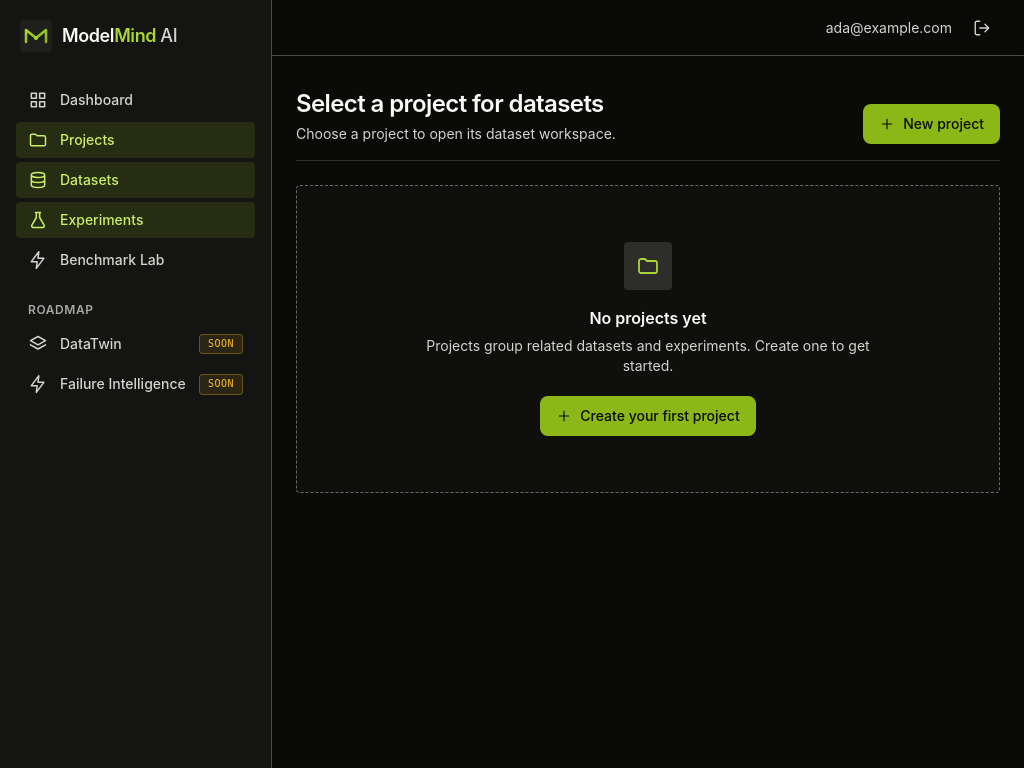
Test case: Projects page › creates a project through the API and shows it with a success message
The image size is (1024, 768).
Step 1. Click the button "Create your first project" → (648, 416), box [540,396,756,436]
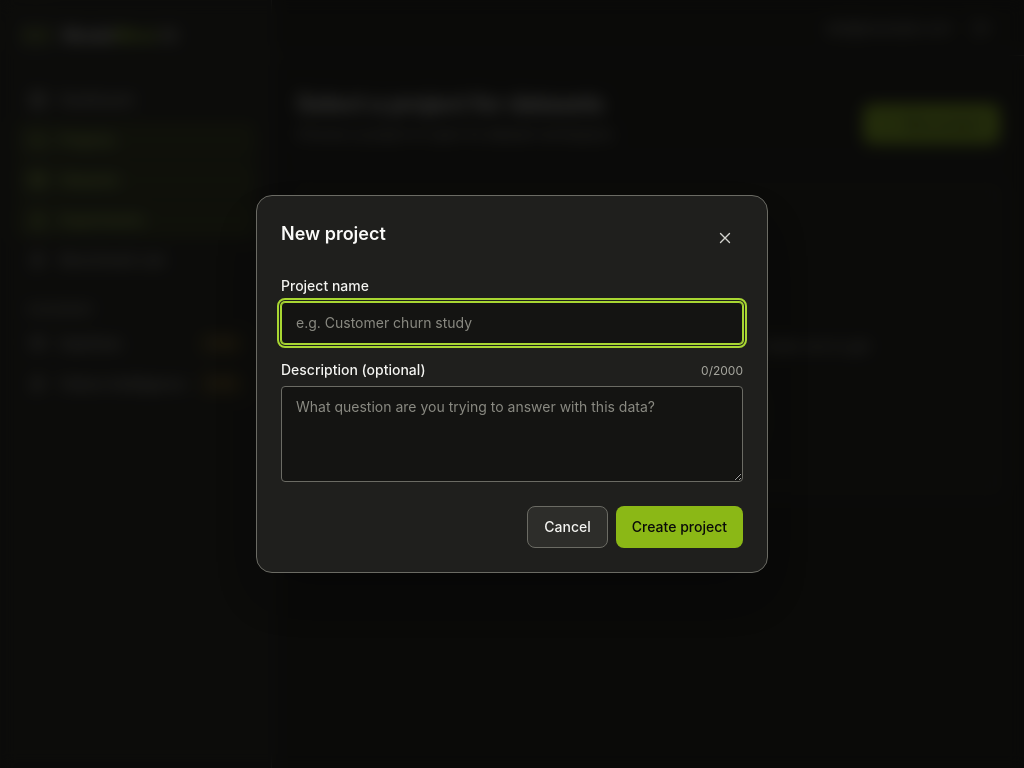
Step 2. Type "  Fraud model  " into the field labelled "Project name" → (512, 323), box [281,302,743,344]
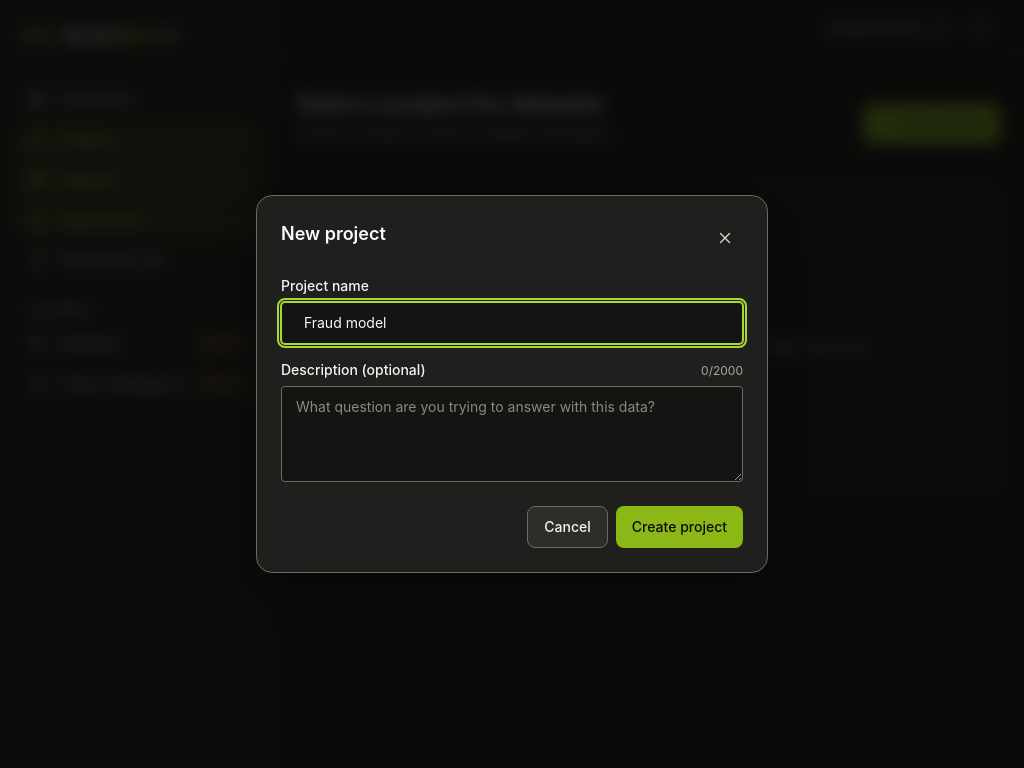
Step 3. Click the button "Create project" → (679, 527), box [616,506,743,548]
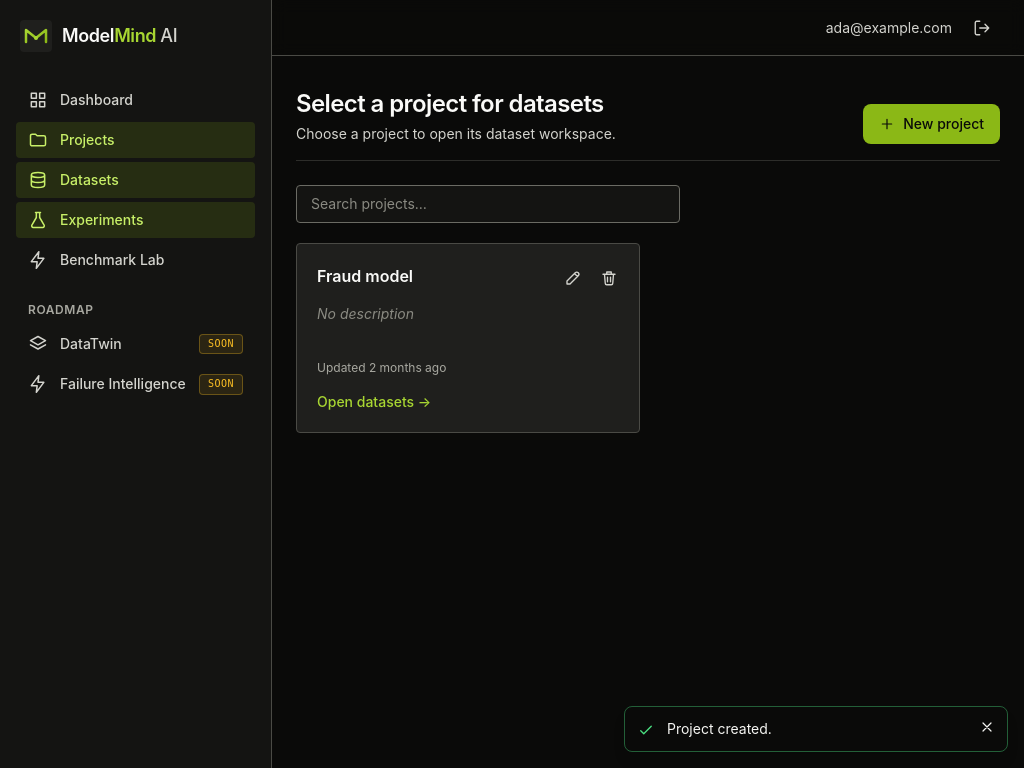
Check: the text "Project created." is shown, box [667,720,772,737]
Check: the link "Fraud model" is shown, box [317,264,413,288]
Check: the dialog is gone
